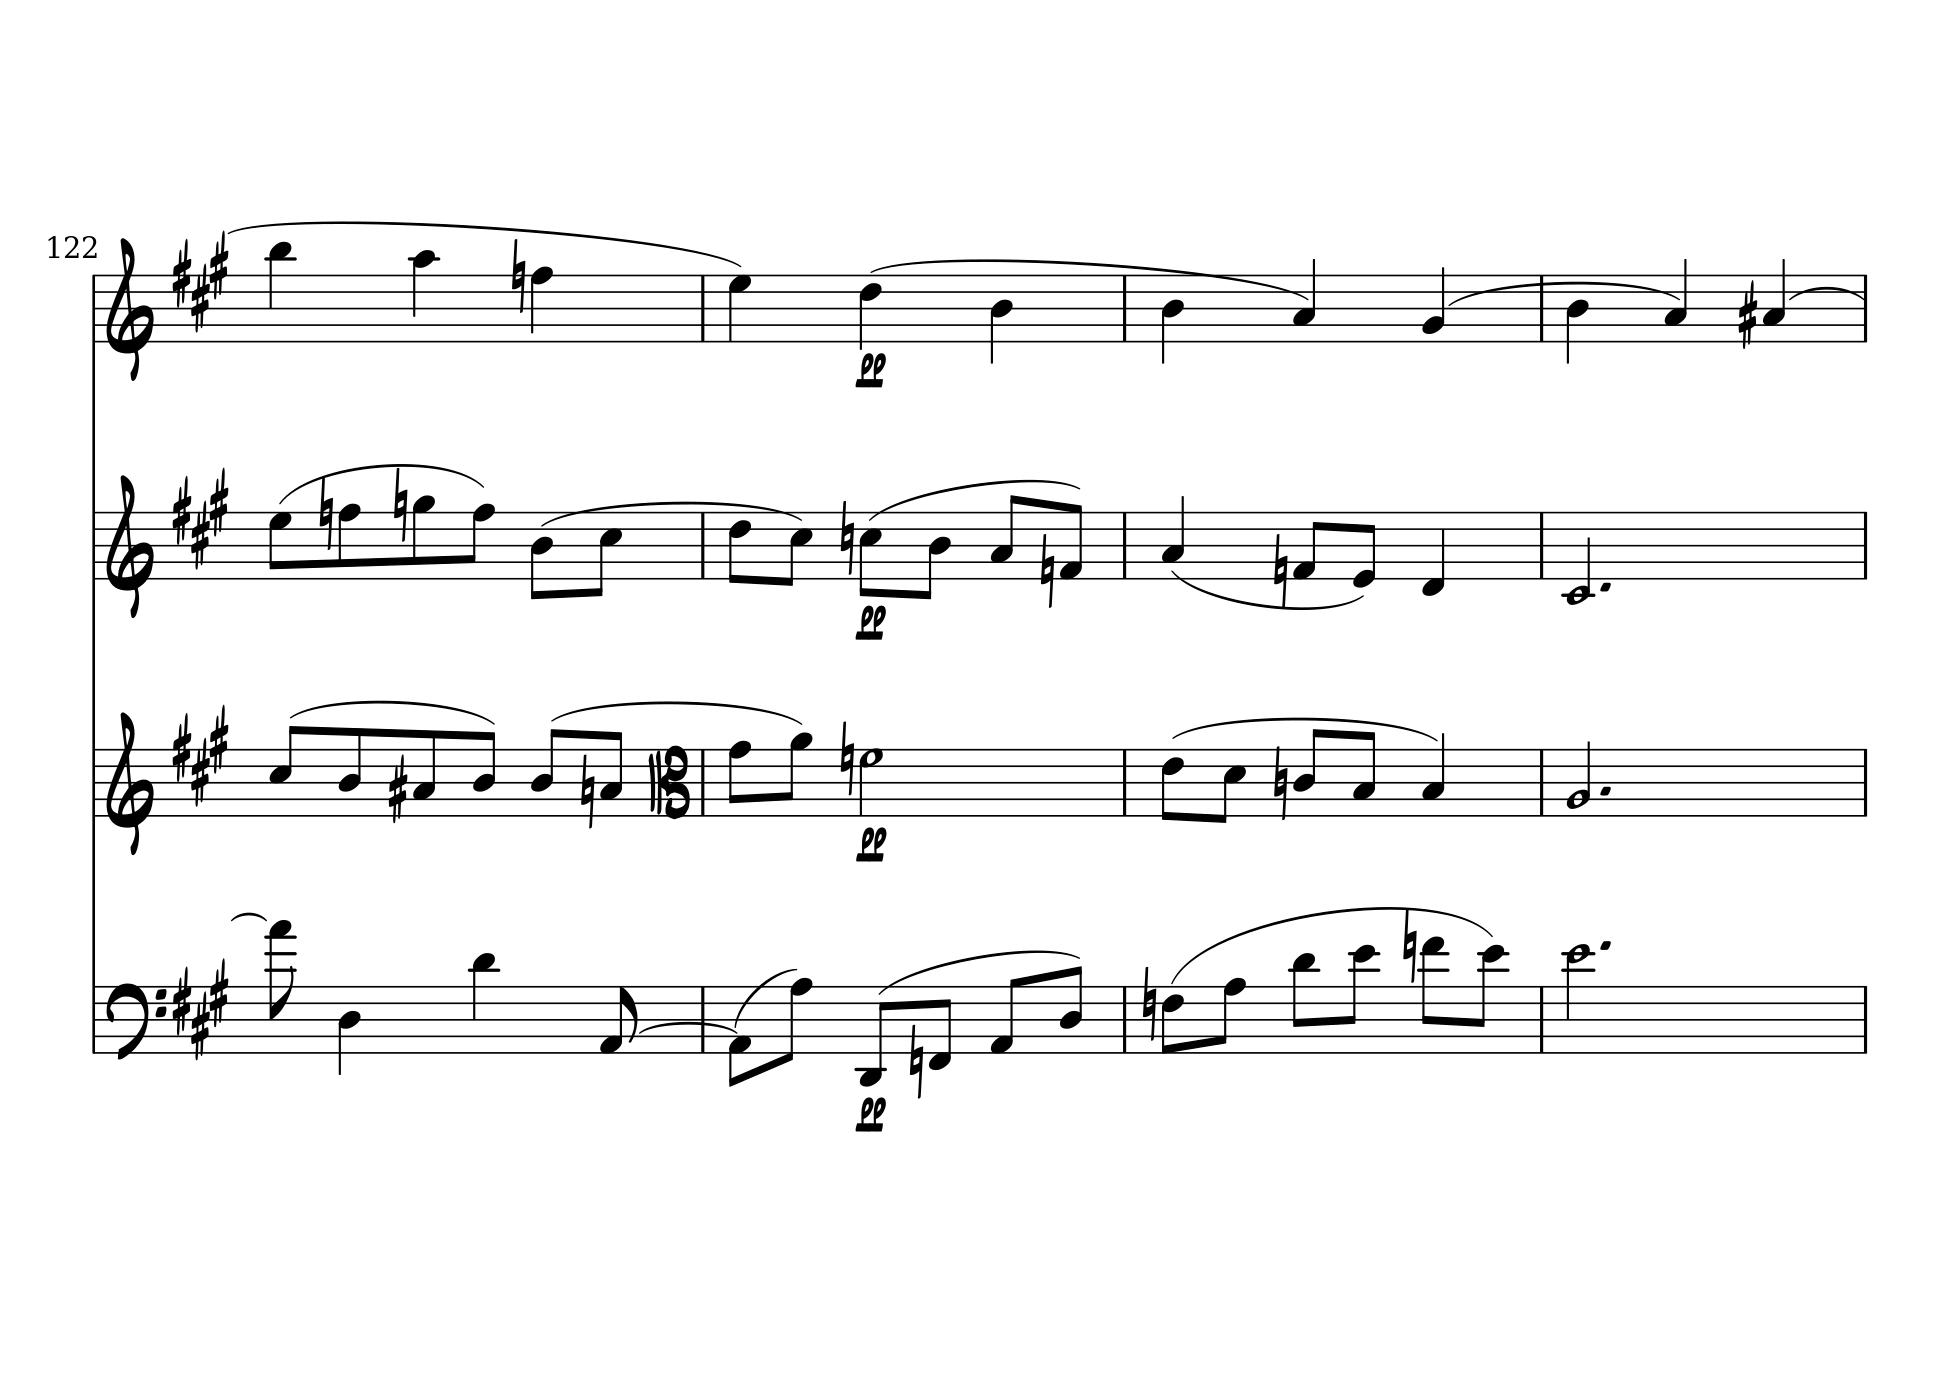1: (46, 232, 60, 261)
2: (61, 232, 79, 259), (79, 232, 97, 259)
2_-2: (1563, 508, 1594, 604)
2_12: (1563, 942, 1594, 1057)
2_2: (1564, 739, 1593, 817)
2_7: (858, 745, 883, 817)
4_-1: (1419, 508, 1446, 598)
4_10: (409, 247, 438, 343)
4_11: (265, 238, 295, 345)
4_2: (1422, 265, 1447, 343)
4_3: (1663, 256, 1689, 342), (1762, 256, 1788, 342), (1420, 735, 1446, 817), (1293, 256, 1317, 343), (1161, 493, 1185, 580)
4_4: (336, 984, 363, 1075), (988, 273, 1014, 364), (1161, 273, 1185, 364), (1566, 273, 1590, 364)
4_6: (858, 271, 883, 349)
4_7: (727, 271, 751, 343)
4_8: (529, 264, 553, 343)
8_-1: (928, 984, 954, 1072)
8_-3: (856, 984, 889, 1087)
8_0: (1353, 510, 1380, 589)
8_1: (598, 984, 640, 1056), (988, 975, 1023, 1054), (726, 984, 751, 1087), (1293, 508, 1326, 580), (1060, 502, 1086, 582)
8_11: (1290, 951, 1318, 1054), (469, 949, 496, 1056)
8_12: (1471, 942, 1509, 1056), (1341, 942, 1378, 1054)
8_13: (1419, 934, 1449, 1054)
8_15: (264, 916, 298, 1054)
8_3: (990, 493, 1023, 580), (412, 727, 439, 819), (1350, 729, 1377, 819), (598, 730, 624, 819)
8_4: (529, 727, 562, 819), (1293, 727, 1326, 819), (918, 510, 951, 600), (336, 724, 364, 819), (528, 510, 553, 601), (1059, 964, 1084, 1056), (471, 730, 496, 819)
8_5: (268, 723, 301, 817), (589, 510, 622, 598), (1215, 747, 1248, 825), (781, 511, 813, 588), (858, 510, 883, 598)
8_6: (1161, 745, 1185, 823), (727, 510, 751, 585), (1161, 984, 1185, 1056)
8_7: (268, 510, 294, 580)
8_8: (778, 975, 813, 1063), (460, 501, 495, 580), (1213, 976, 1246, 1054), (726, 739, 751, 820), (337, 501, 361, 582)
8_9: (778, 730, 811, 819), (409, 493, 436, 580)
A_S: (168, 958, 229, 1060), (172, 465, 229, 571), (172, 703, 229, 805), (172, 229, 228, 333)
Cclef: (646, 744, 691, 820)
Fclef: (105, 981, 166, 1062)
Gclef: (103, 708, 157, 856), (103, 471, 157, 618), (105, 235, 156, 381)
Natural: (390, 466, 409, 544), (577, 753, 597, 831), (838, 718, 856, 798), (1272, 744, 1290, 823), (1140, 964, 1158, 1042), (508, 238, 526, 315), (1038, 531, 1056, 607), (316, 475, 334, 550), (1272, 531, 1290, 606), (907, 1023, 925, 1098), (838, 498, 855, 574), (1402, 907, 1417, 984)
Sharp: (1737, 277, 1759, 349), (385, 754, 408, 825)
Single_barline: (694, 274, 712, 340), (694, 511, 712, 577), (1116, 748, 1134, 814), (1534, 274, 1551, 340), (1857, 511, 1873, 577), (1857, 748, 1873, 814), (694, 748, 711, 814), (696, 985, 712, 1051), (1117, 985, 1134, 1051), (1534, 985, 1551, 1051), (1857, 985, 1873, 1051), (1857, 276, 1873, 340), (1534, 750, 1551, 814), (85, 274, 100, 342), (85, 511, 100, 579), (85, 748, 100, 816), (1117, 274, 1132, 340), (1534, 511, 1549, 577), (85, 985, 100, 1051), (1117, 513, 1132, 576)
Slur: (226, 220, 744, 270), (1170, 906, 1494, 982), (868, 259, 1309, 304), (876, 946, 1077, 996), (867, 480, 1077, 522), (1170, 570, 1365, 610), (1173, 715, 1440, 744), (540, 499, 802, 528), (553, 699, 805, 727), (1449, 280, 1677, 310), (288, 699, 496, 727), (730, 964, 799, 1029), (637, 1021, 742, 1035), (1788, 285, 1867, 300), (229, 910, 268, 922)
dot: (1597, 577, 1614, 594), (1599, 937, 1614, 954), (1597, 784, 1614, 796)
pp: (852, 1093, 889, 1135), (853, 825, 889, 862), (853, 601, 888, 640), (853, 349, 888, 387)
